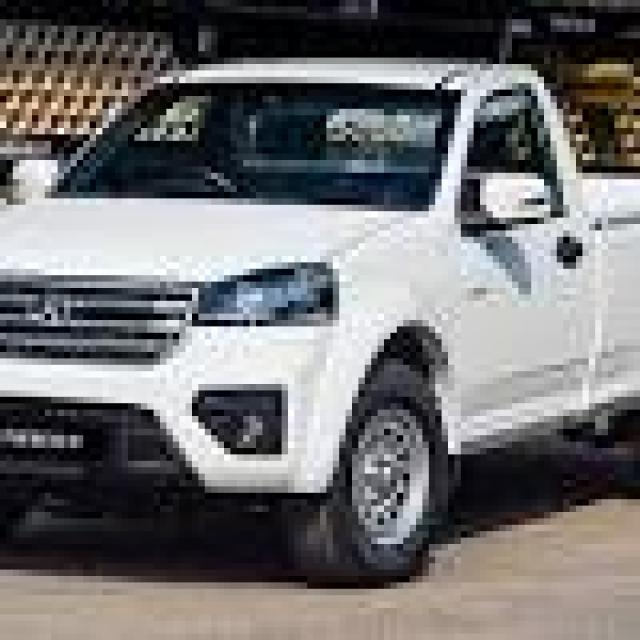Pickup Trucks: (6, 64, 640, 582)
